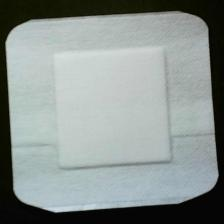Dressing: (6, 11, 221, 218)
